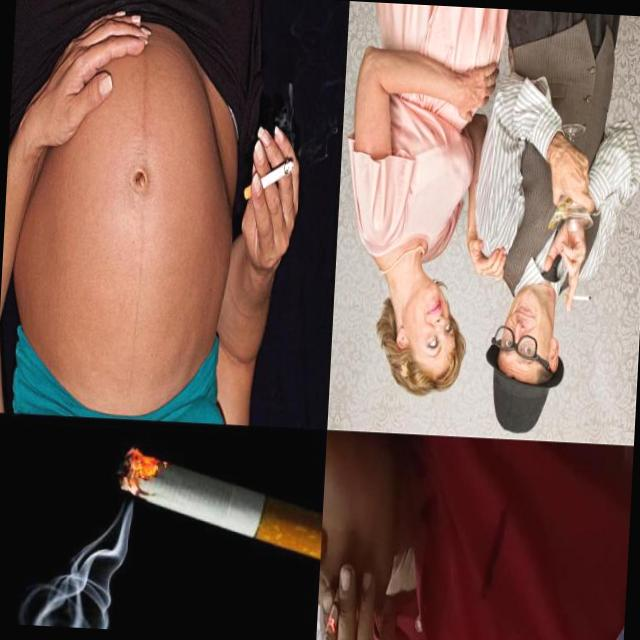smoke: (114, 446, 326, 564), (243, 156, 295, 203), (322, 580, 346, 640), (564, 294, 592, 308)
